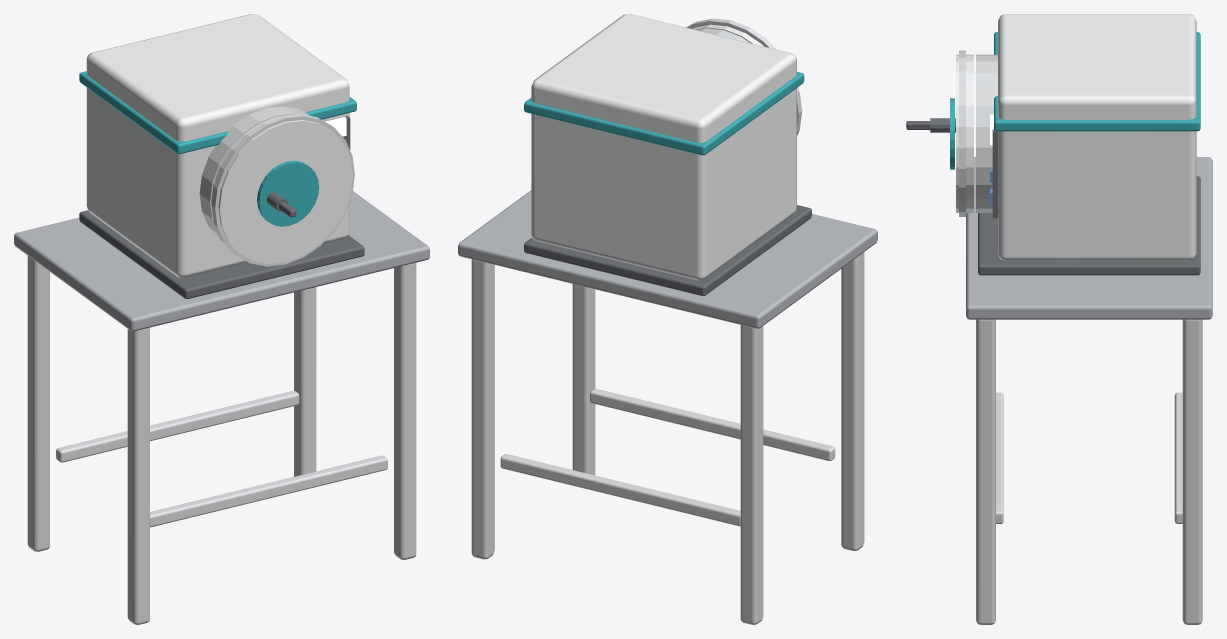
File: autoclave.glb
3 renders of one model, left to right at view 1: azimuth 30°, elevation 25°; view 2: azimuth 150°, elevation 25°; view 3: azimuth 270°, elevation 25°, orthographic. The views are drawn at different scales.
Parts seen in each view (by area): view 1: autoclave-bench, door-a/white, door-a/teal, door-a/steel; view 2: autoclave-bench, door-a/steel; view 3: autoclave-bench, door-a/white, door-a/steel, door-a/dark.
Boxes of the visible parts, left/top/right/bottom form: autoclave-bench: left=14, top=14, right=429, bottom=624; door-a/white: left=211, top=116, right=352, bottom=263; door-a/teal: left=257, top=160, right=319, bottom=226; door-a/steel: left=211, top=114, right=354, bottom=266; autoclave-bench: left=458, top=14, right=877, bottom=624; door-a/steel: left=686, top=18, right=802, bottom=135; autoclave-bench: left=966, top=14, right=1212, bottom=624; door-a/white: left=956, top=54, right=973, bottom=212; door-a/steel: left=959, top=50, right=965, bottom=216; door-a/dark: left=906, top=118, right=955, bottom=132.
Bounding box in the file's own units: 0.9 × 1.39 × 0.77.
